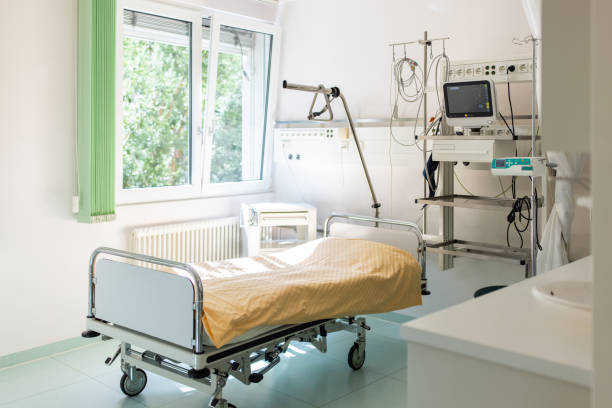bedside_monitor: (443, 80, 498, 129)
bedside_table: (238, 198, 315, 251)
counter: (416, 258, 596, 408)
countertop: (406, 244, 587, 370)
curtain: (77, 1, 116, 220)
foot_board: (75, 247, 212, 346)
hospital_bed: (88, 214, 427, 408)
infusion_pump: (493, 157, 547, 175)
iv_pole: (388, 29, 451, 272), (511, 32, 542, 270)
sink: (532, 274, 595, 316)
